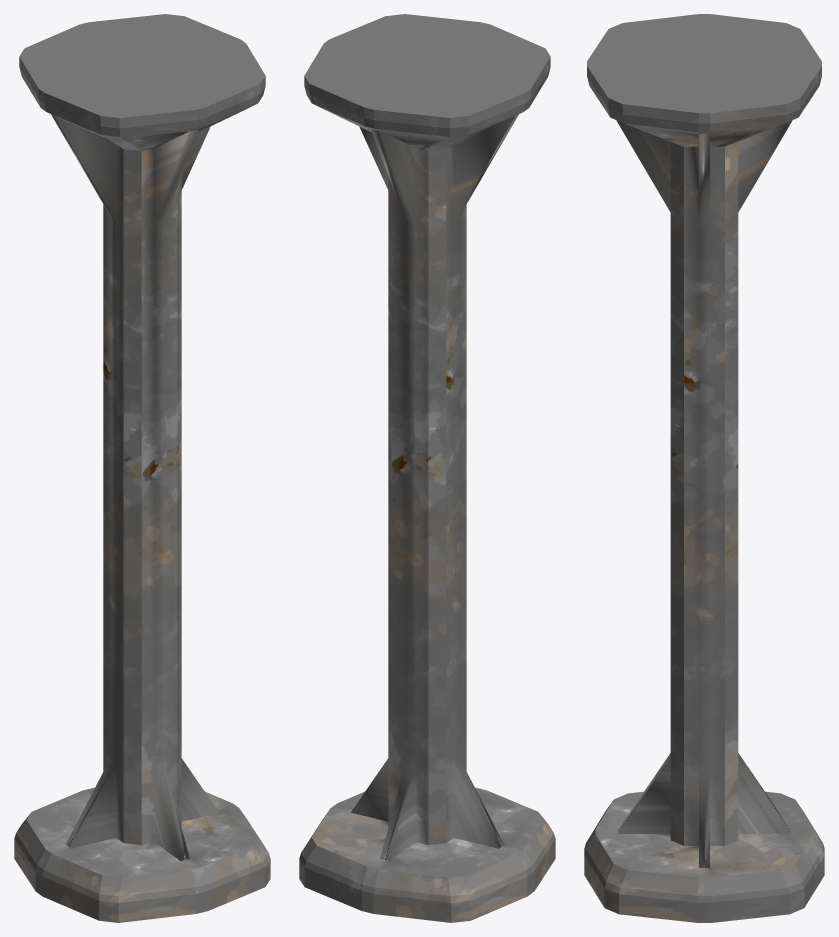
File: metalpillar.fbx
3 views of the same model, side by side, from view 1: azimuth 30°, elevation 25°; view 2: azimuth 150°, elevation 25°; view 3: azimuth 270°, elevation 25° (orthographic).
Parts seen in each view (by area): view 1: metalpillar; view 2: metalpillar; view 3: metalpillar.
Part boxes in pixels (box(x1,y1,x2,y2)): metalpillar: box(14, 14, 270, 922); metalpillar: box(299, 14, 555, 922); metalpillar: box(584, 14, 824, 922).
Size of the model in its own units: 216 by 800 by 216.
